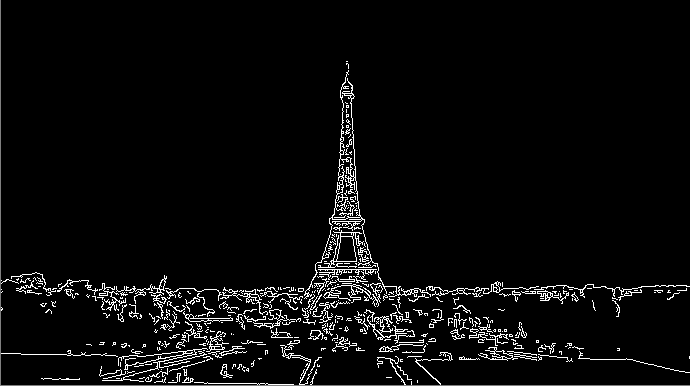eiffel tower: (277, 52, 408, 310)
